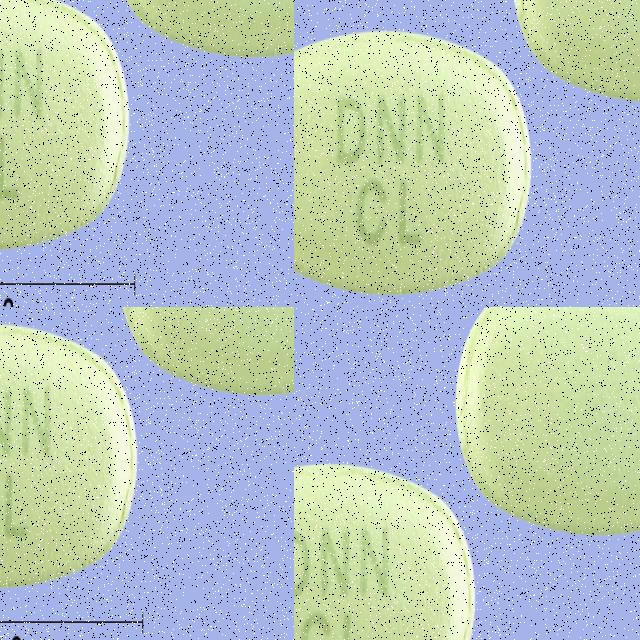Cefixime Cap- Samsung: (0, 117, 221, 307)
Ciprobay: (0, 354, 211, 640)
Ciprocin: (337, 61, 569, 307)
Clcid: (456, 307, 640, 530), (294, 457, 477, 640)
